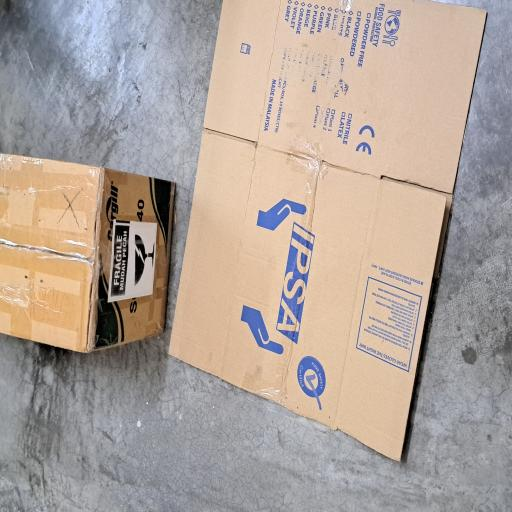cardboard: (35, 221, 384, 512), (118, 0, 267, 238)
